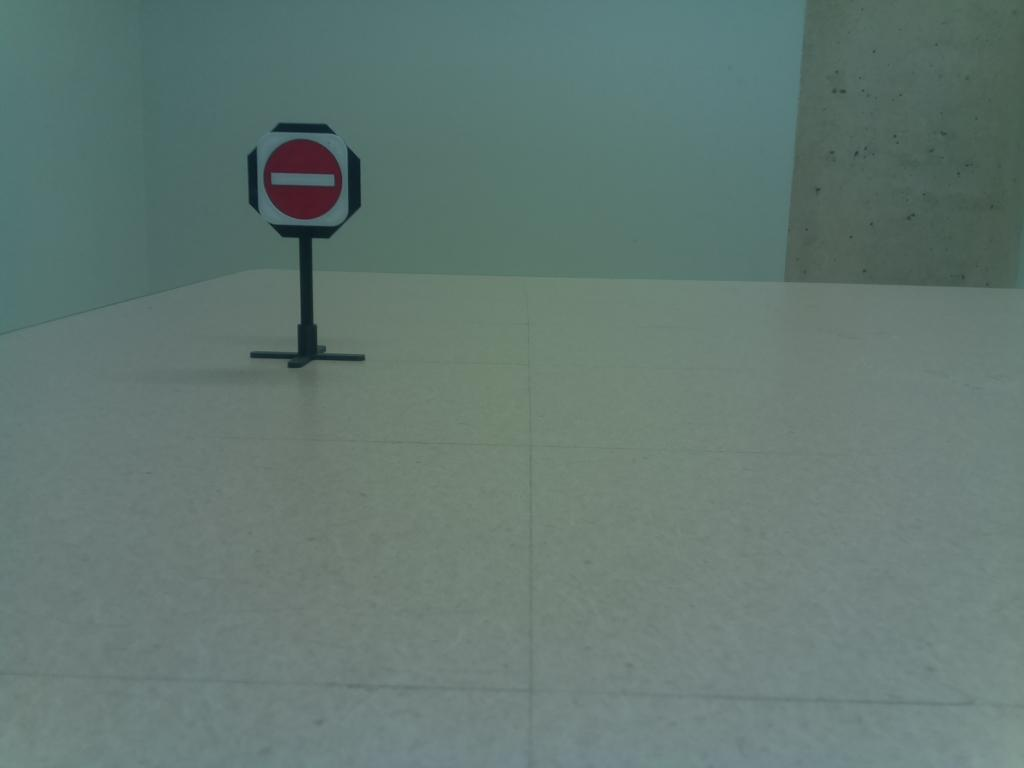sign_noentry: (237, 112, 372, 246)
